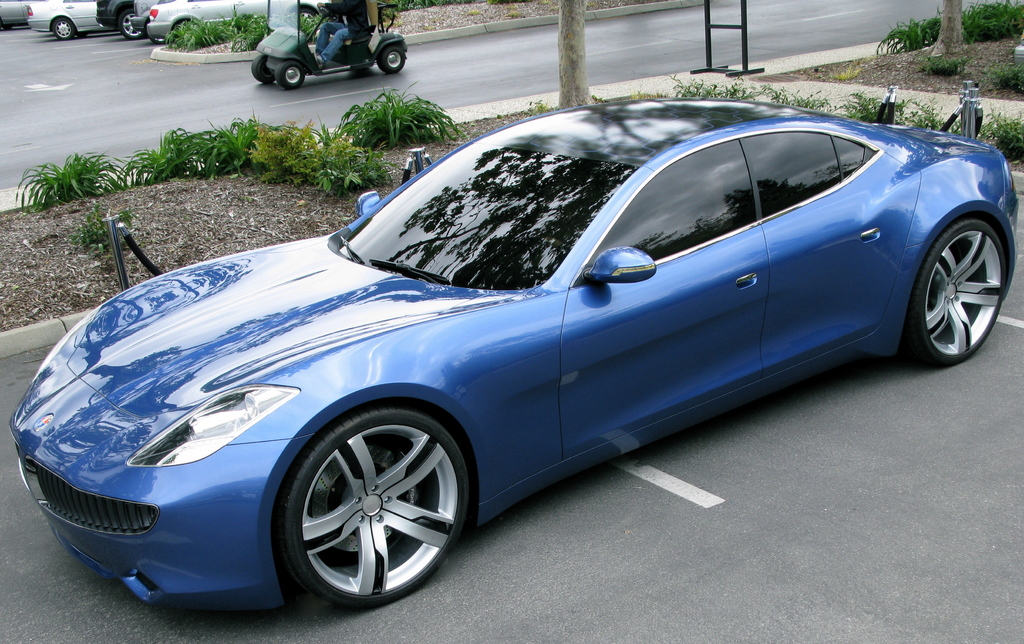Car: (10, 103, 1020, 613), (147, 0, 269, 47), (24, 0, 102, 39), (0, 0, 29, 28)
